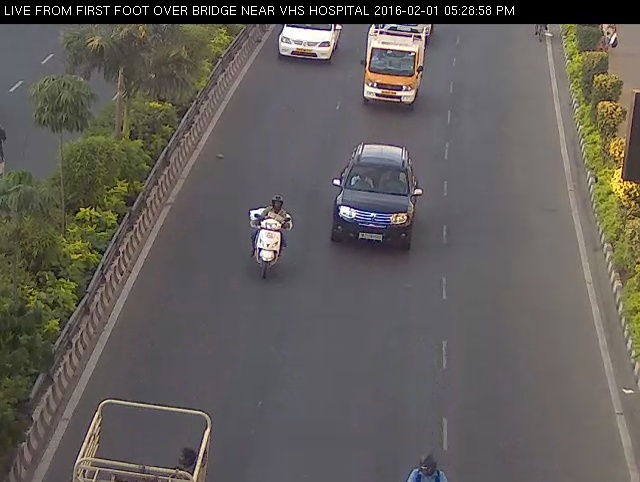Car: (68, 388, 218, 482), (327, 139, 425, 254), (357, 19, 431, 119), (268, 19, 348, 68), (369, 12, 439, 48), (372, 12, 438, 49)
Person: (244, 190, 299, 286), (396, 440, 455, 481)
